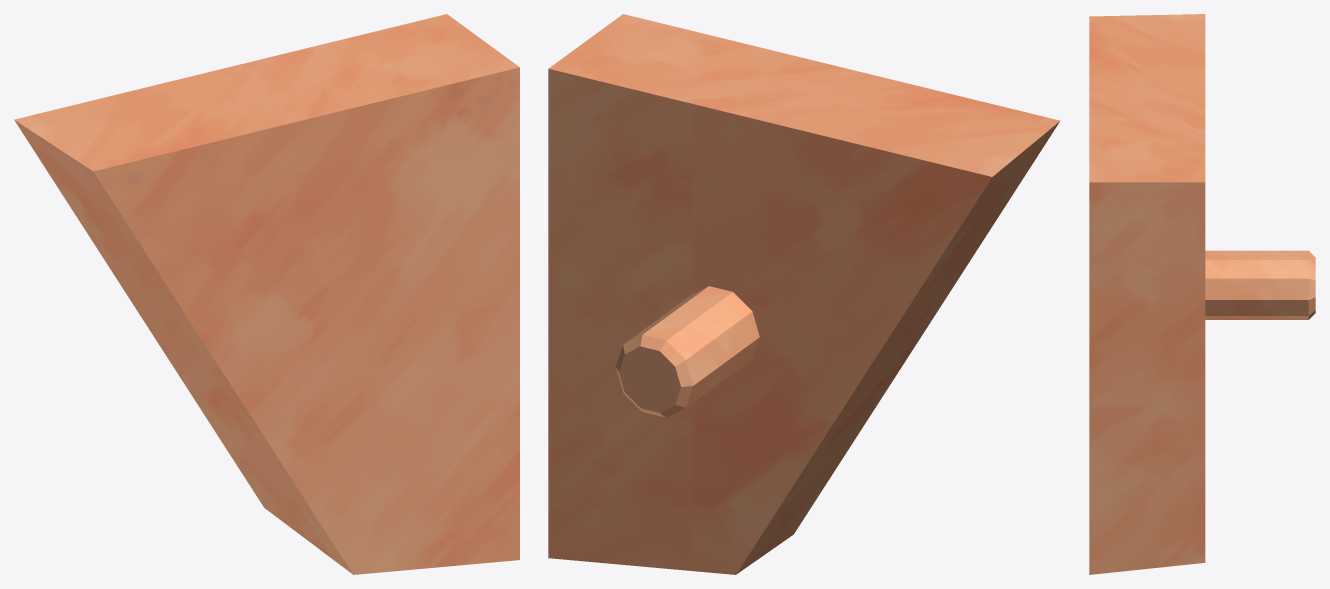
File: wall_plain_s00.fbx
The picture shows the model from 3 angles, left to right: view 1: azimuth 30°, elevation 25°; view 2: azimuth 150°, elevation 25°; view 3: azimuth 270°, elevation 25°; orthographic projection. The views are drawn at different scales.
Parts seen in each view (by area): view 1: wall_plain_s00; view 2: wall_plain_s00; view 3: wall_plain_s00.
Boxes of the visible parts, left/top/right/bottom form: wall_plain_s00: left=14, top=14, right=519, bottom=574; wall_plain_s00: left=548, top=14, right=1060, bottom=574; wall_plain_s00: left=1089, top=14, right=1315, bottom=574.
Bounding box in the file's own units: 3.43 × 3.73 × 1.95.
